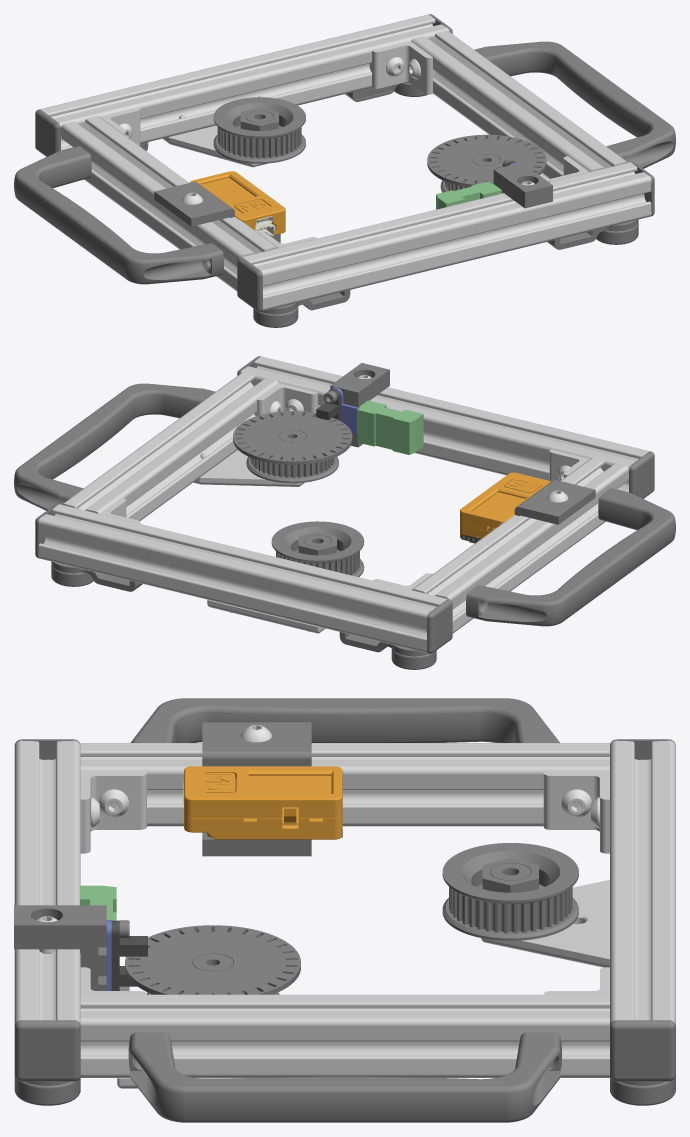
File: artifact.glb
3 renders of one model, top to bottom at view 1: azimuth 30°, elevation 25°; view 2: azimuth 150°, elevation 25°; view 3: azimuth 270°, elevation 25°, orthographic. The views are drawn at different scales.
Parts seen in each view (by area): view 1: Artifact Prototype; view 2: Artifact Prototype; view 3: Artifact Prototype.
Part boxes in pixels (<box>): Artifact Prototype: <box>14,14,675,327</box>; Artifact Prototype: <box>14,356,675,669</box>; Artifact Prototype: <box>14,698,675,1122</box>.
Bounding box in the file's own units: 282 × 38.01 × 200.
